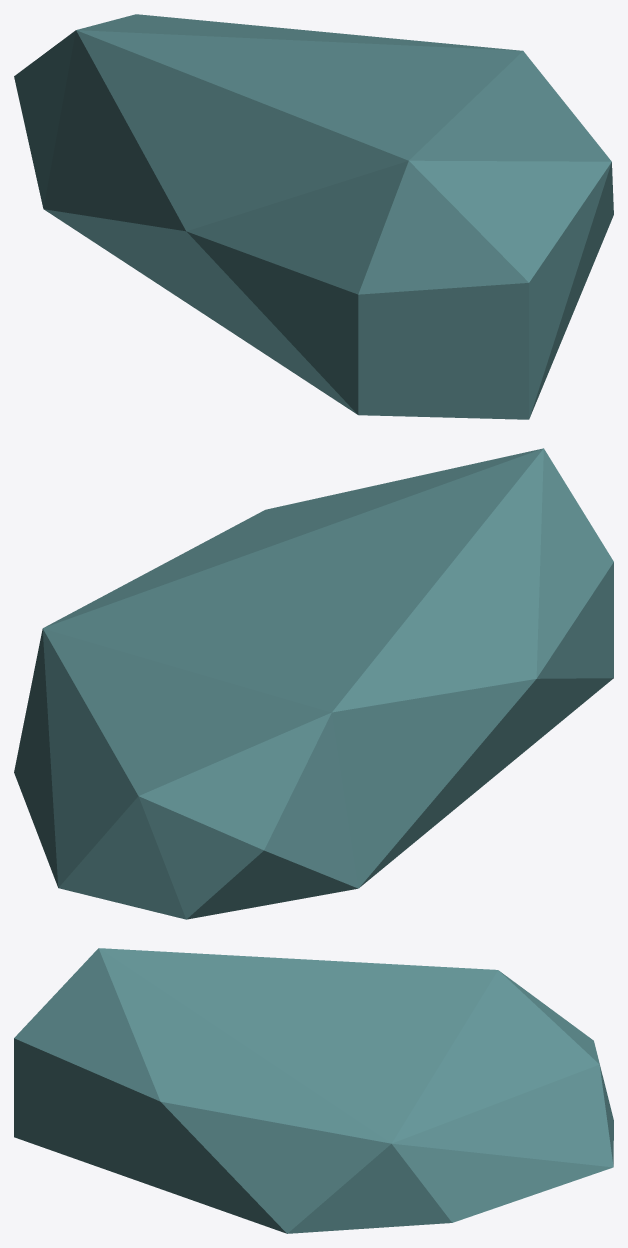
File: Boulder_08_Collider_01.FBX
The picture shows the model from 3 angles, top to bottom: view 1: azimuth 30°, elevation 25°; view 2: azimuth 150°, elevation 25°; view 3: azimuth 270°, elevation 25°; orthographic projection. The views are drawn at different scales.
Parts seen in each view (by area): view 1: COLLIDER1; view 2: COLLIDER1; view 3: COLLIDER1.
Boxes of the visible parts, x1,y1,x2,y2 form: COLLIDER1: (14,14,613,419); COLLIDER1: (14,448,613,919); COLLIDER1: (14,948,613,1233).
Bounding box in the file's own units: 70 × 34.92 × 113.
